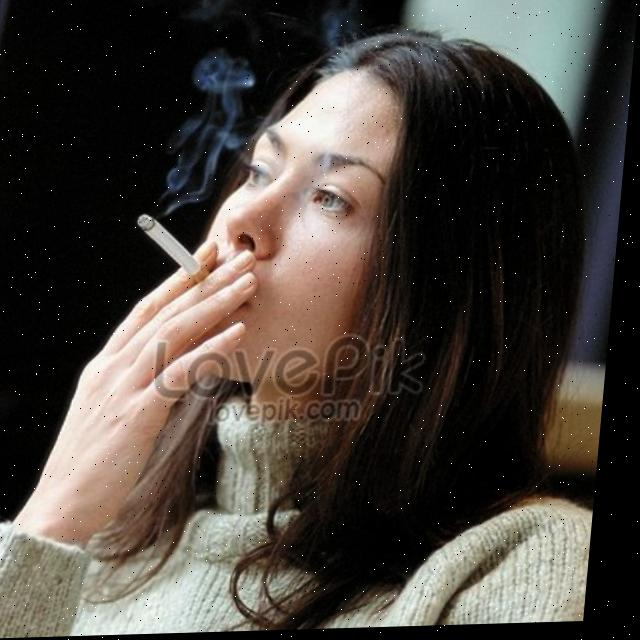cigarette: (136, 214, 220, 287)
